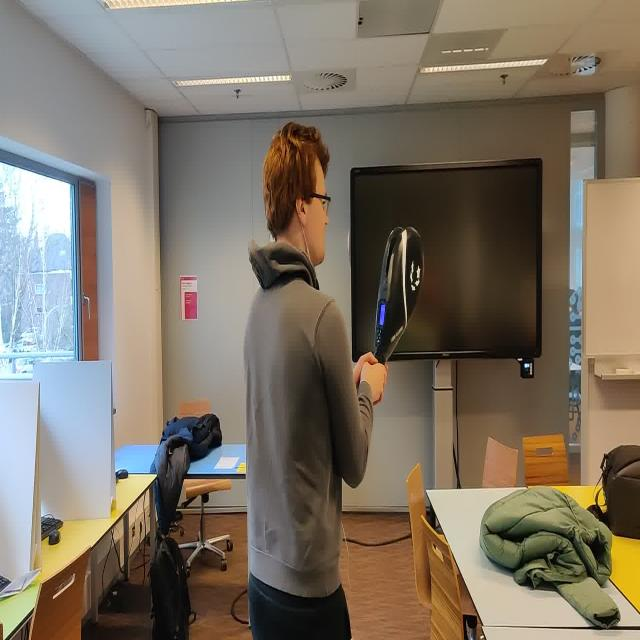paddle: (373, 224, 425, 365)
